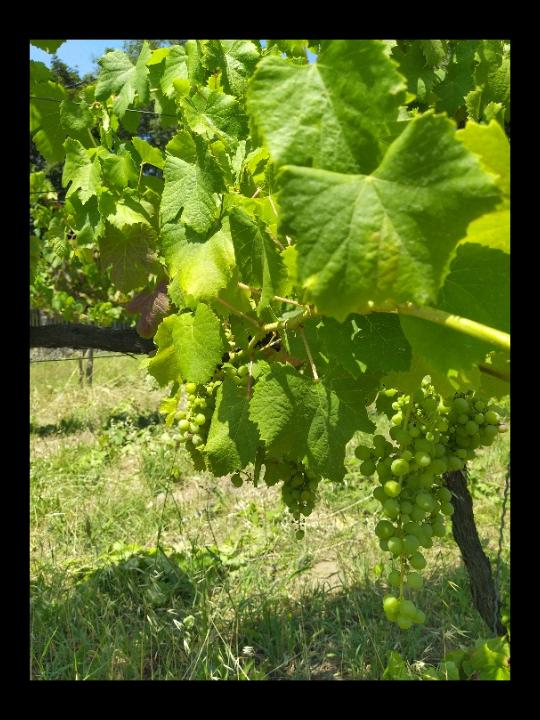grape: (347, 385, 503, 634)
